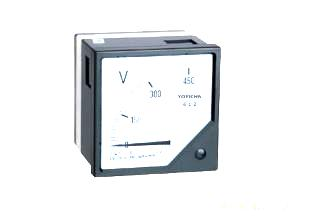pointer: (101, 54, 212, 170)
